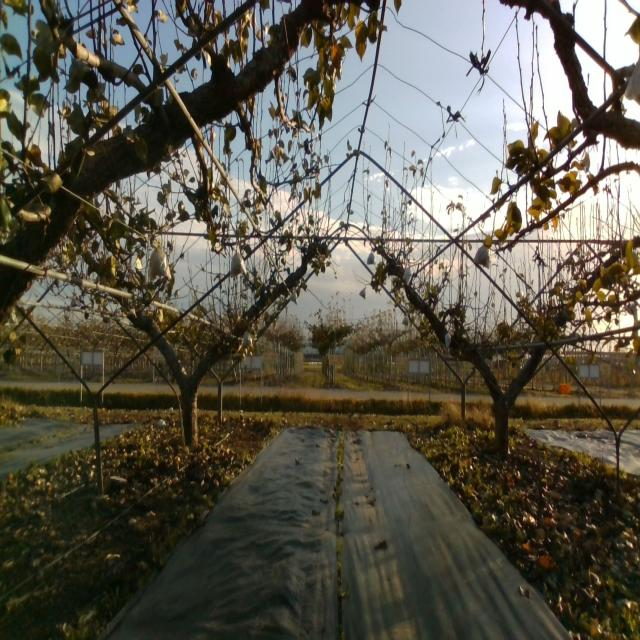pearbags: (148, 244, 171, 282), (230, 248, 246, 276), (474, 242, 491, 268)
